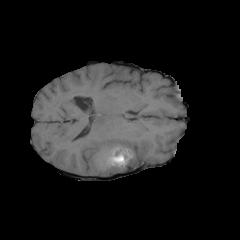glioma: (92, 117, 142, 173)
